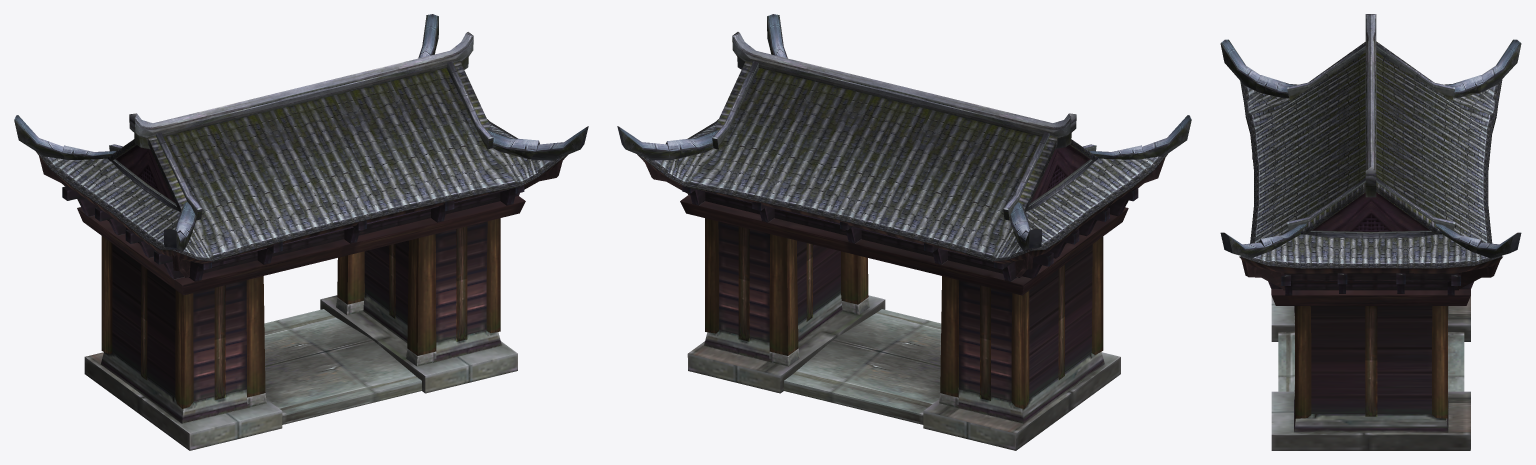
File: xcz_jz_07_LOD1.FBX
3 views of the same model, side by side, from view 1: azimuth 30°, elevation 25°; view 2: azimuth 150°, elevation 25°; view 3: azimuth 270°, elevation 25° (orthographic). The views are drawn at different scales.
Parts seen in each view (by area): view 1: xcz_jz_07_LOD1; view 2: xcz_jz_07_LOD1; view 3: xcz_jz_07_LOD1.
Part boxes in pixels (x1,y1,x2,y2): xcz_jz_07_LOD1: (14,14,588,450); xcz_jz_07_LOD1: (617,14,1191,450); xcz_jz_07_LOD1: (1220,14,1521,450).
Size of the model in its own units: 2022 by 1362 by 1307.
